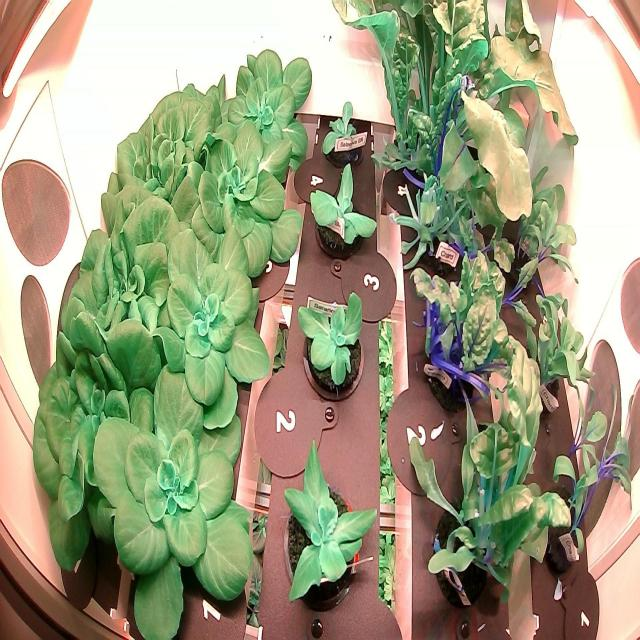Ready: (20, 354, 144, 585), (99, 49, 212, 261), (48, 217, 170, 389)
young: (82, 346, 264, 639), (148, 213, 278, 432), (172, 109, 306, 278), (280, 435, 382, 617), (207, 29, 314, 175), (305, 150, 383, 274), (294, 288, 371, 410), (318, 81, 371, 171)
